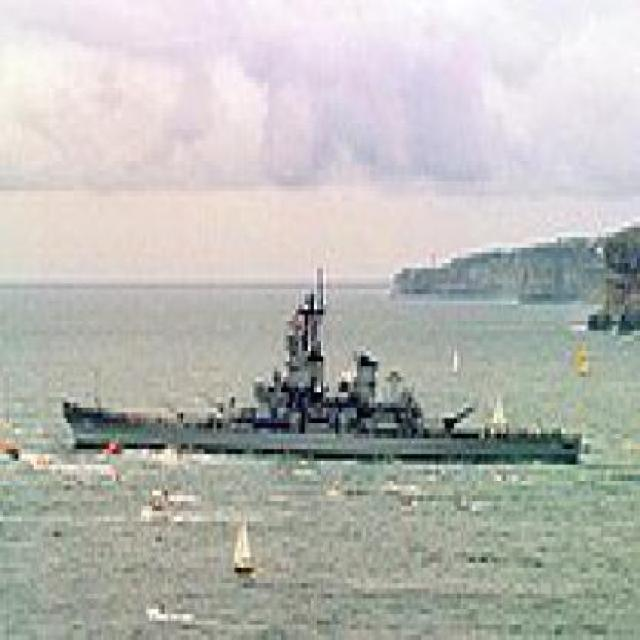warship2: (59, 280, 596, 471)
